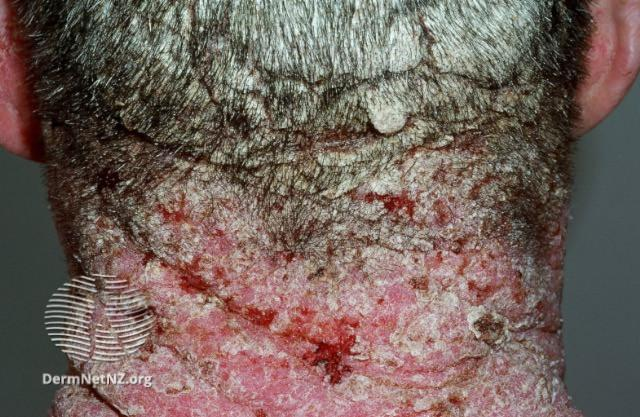Psoriasis: (48, 130, 586, 417)
